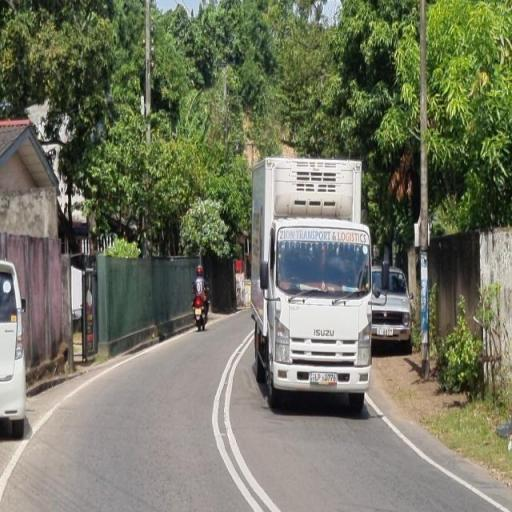double_white_line: (365, 391, 511, 512), (212, 326, 280, 512)
